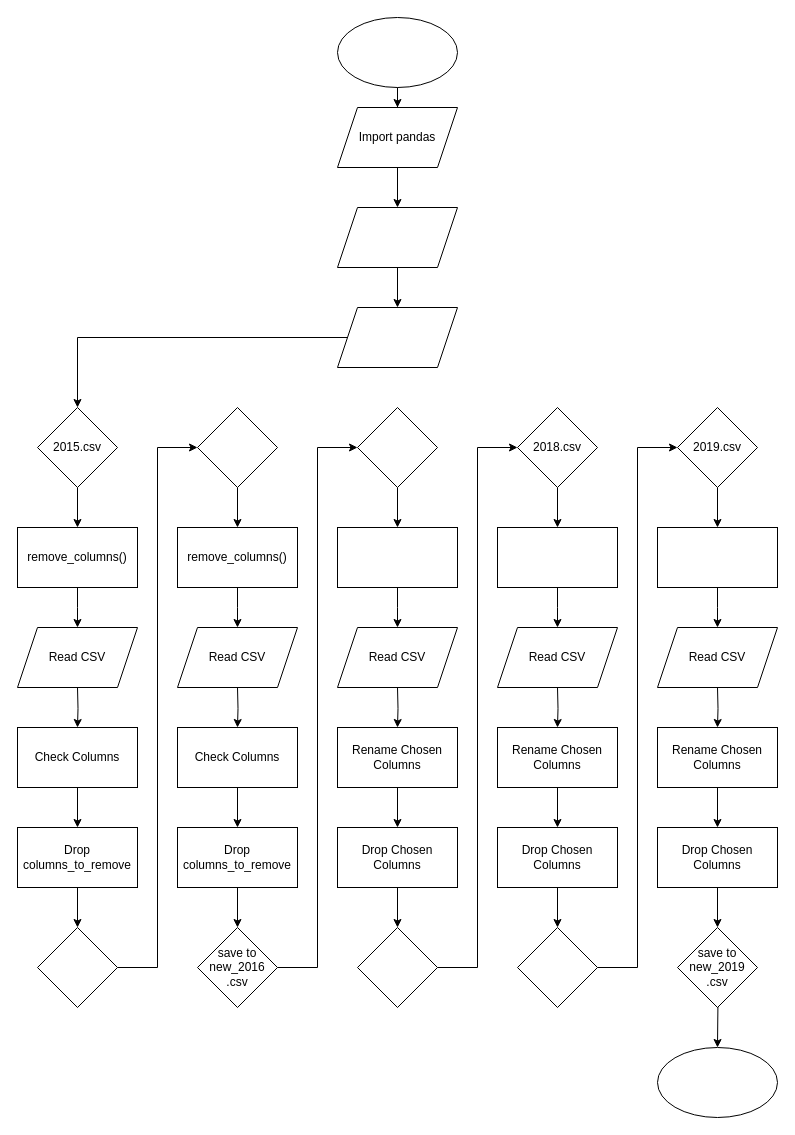
Image size: 795x1135. Some labels were removed from this diagram. Here are the shapes that lost their labels. From the top down, the box of each, then its label:
(336, 16, 458, 88): clean.py
(336, 206, 458, 268): Load CSVs
(336, 306, 458, 368): Define Outputs
(196, 406, 278, 488): 2016.csv
(356, 406, 438, 488): 2017.csv
(336, 526, 458, 588): process_2017()
(496, 526, 618, 588): process_2018()
(656, 526, 778, 588): process_2019()
(36, 926, 118, 1008): save to new_2015 .csv
(356, 926, 438, 1008): save to new_2017 .csv
(516, 926, 598, 1008): save to new_2018 .csv
(656, 1046, 778, 1118): End
